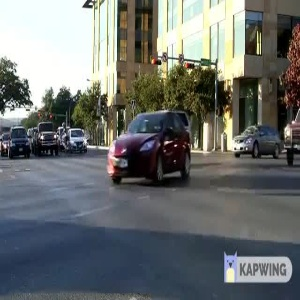car: (103, 110, 192, 190), (223, 118, 285, 161), (64, 123, 88, 154)
truck: (33, 119, 61, 158)
van: (6, 118, 32, 159)
